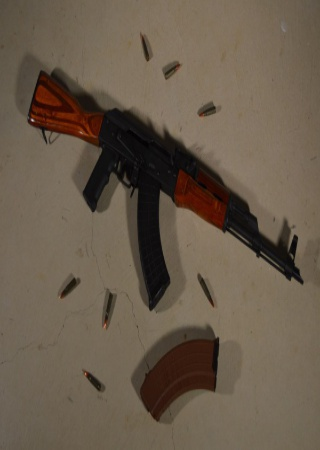rifle: (25, 63, 304, 307)
